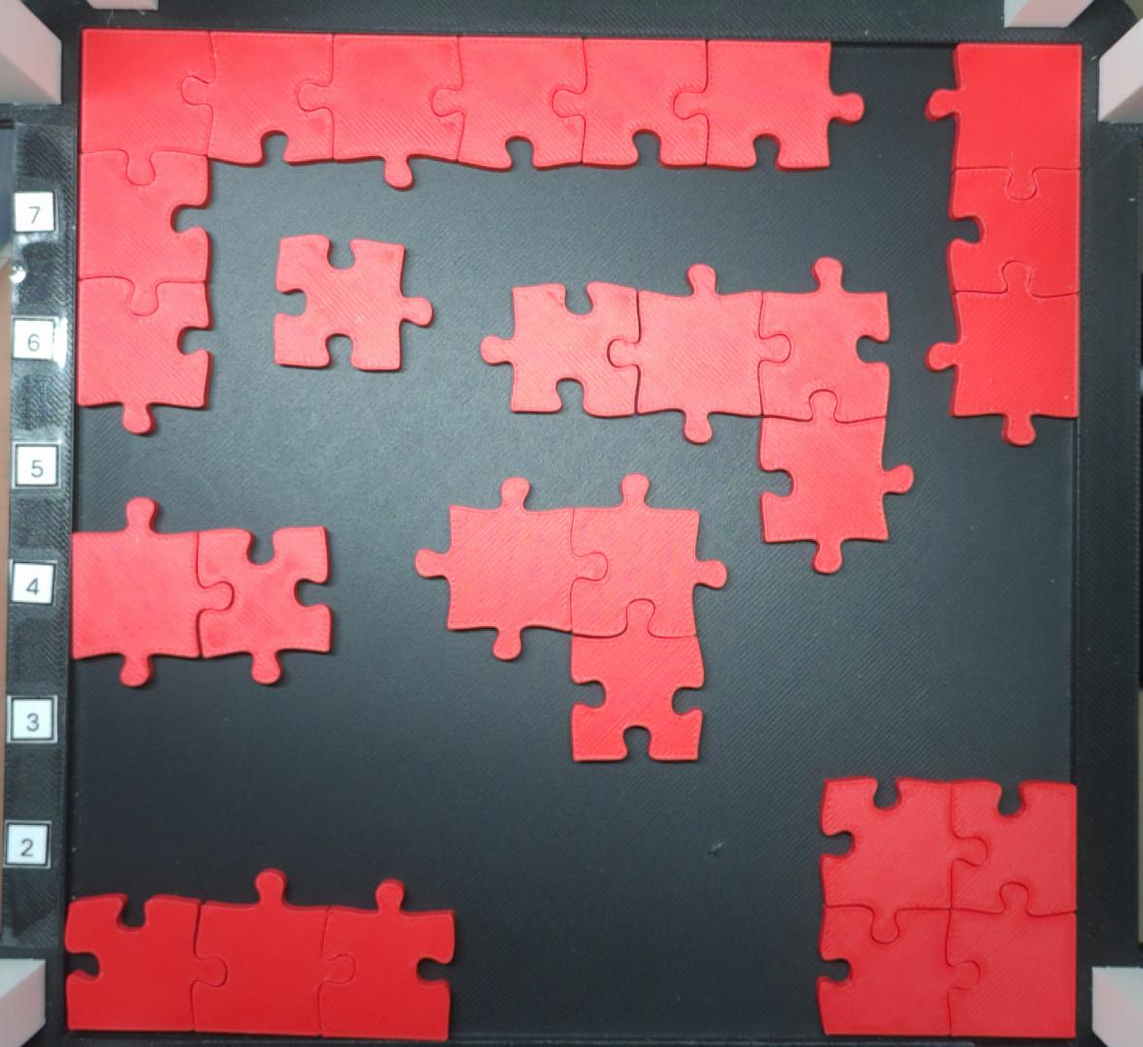p_1: (272, 232, 435, 372)
p_2: (68, 496, 334, 688)
p_3: (413, 471, 729, 765), (60, 867, 459, 1042), (922, 41, 1085, 448)
p_4: (478, 255, 916, 576), (814, 775, 1079, 1041)
p_m: (73, 24, 868, 438)
